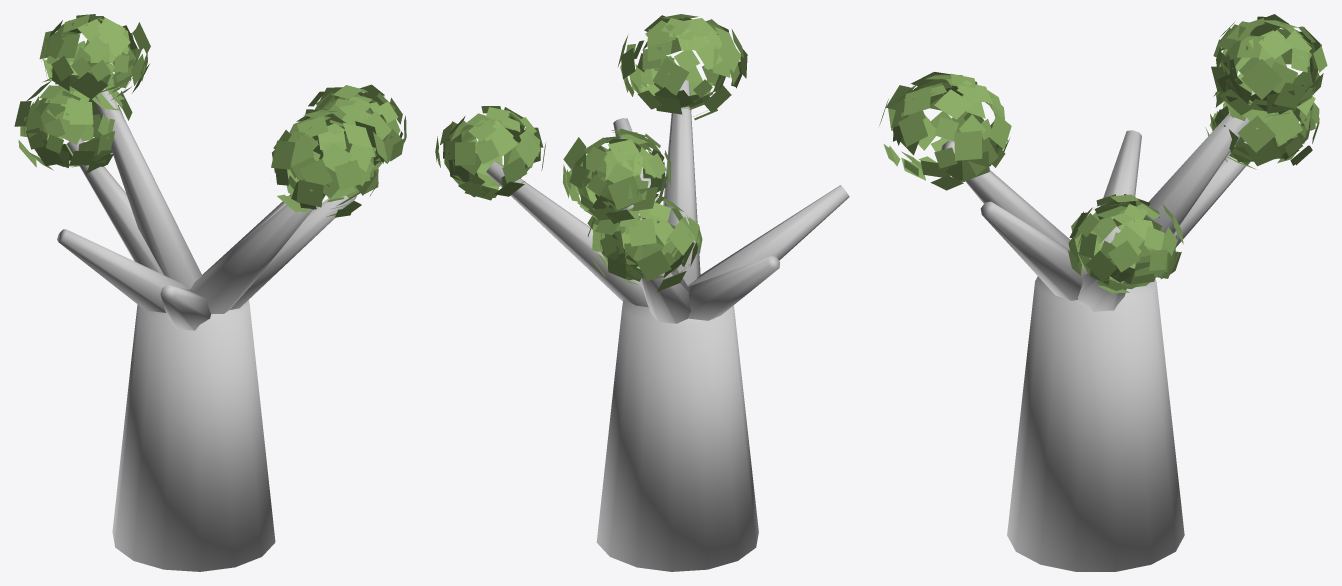
The model's file is arbre_baobab1.glb.
3 views of the same model, side by side, from view 1: azimuth 30°, elevation 25°; view 2: azimuth 150°, elevation 25°; view 3: azimuth 270°, elevation 25° (orthographic). The views are drawn at different scales.
Parts seen in each view (by area): view 1: arbre_baobab1; view 2: arbre_baobab1; view 3: arbre_baobab1.
Part boxes in pixels (x1,y1,x2,y2): arbre_baobab1: (14,14,406,571); arbre_baobab1: (435,14,849,571); arbre_baobab1: (879,14,1327,571).
Bounding box in the file's own units: 9.01 × 11.9 × 9.61.
